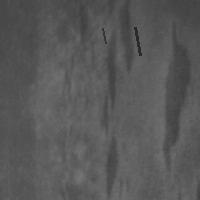inclusion: (98, 1, 136, 198), (160, 16, 194, 175), (74, 1, 93, 46), (133, 25, 142, 57), (100, 26, 107, 45)
